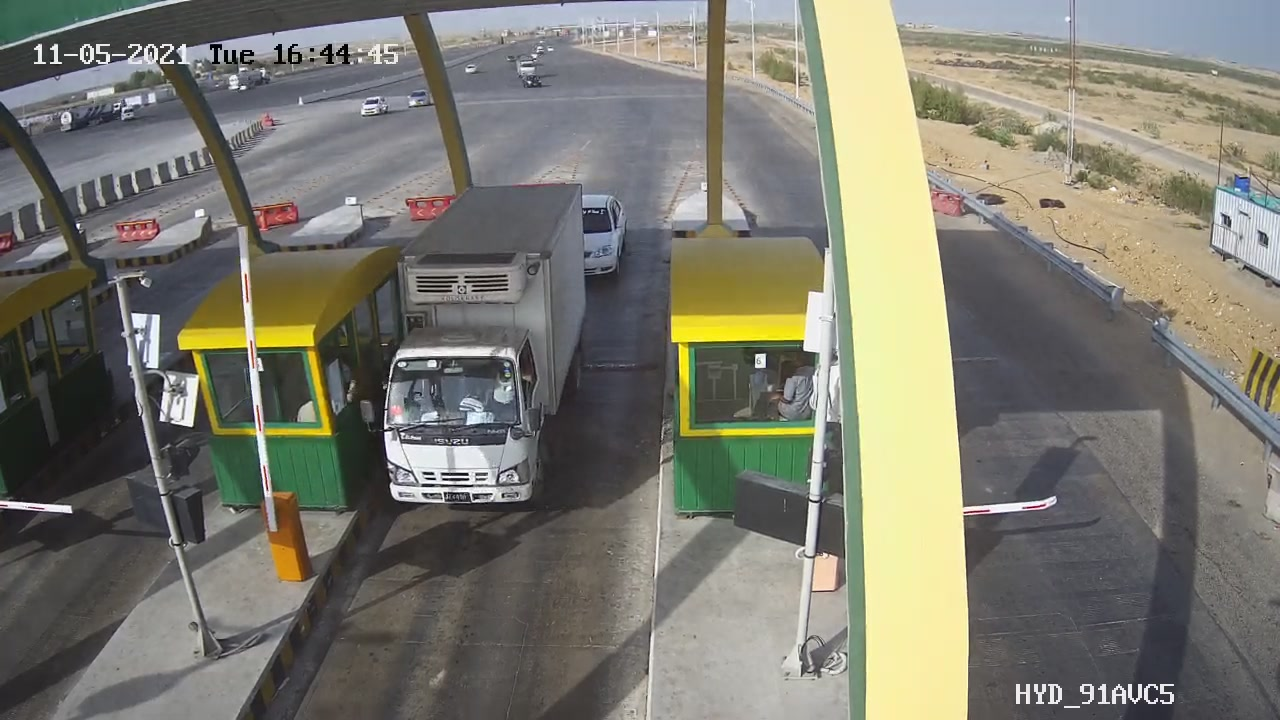F5: (336, 163, 614, 534)
